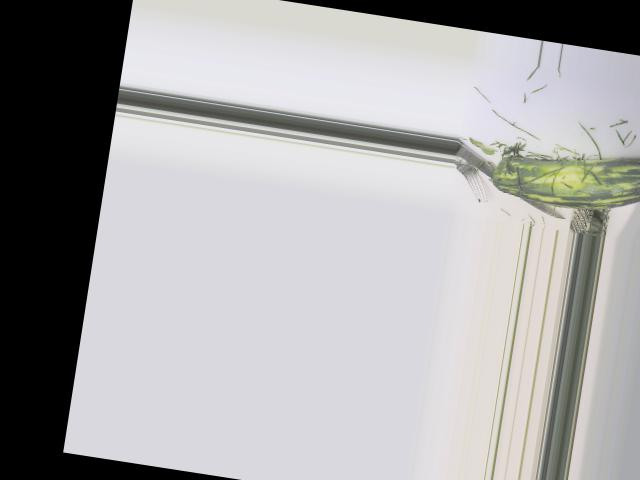cucumber: (489, 133, 640, 221)
